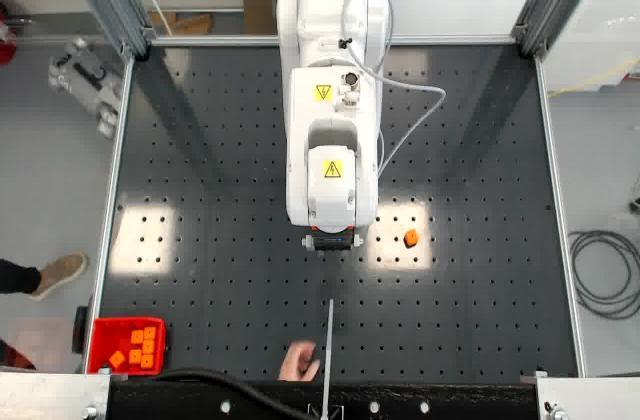cube: (402, 227, 421, 248)
